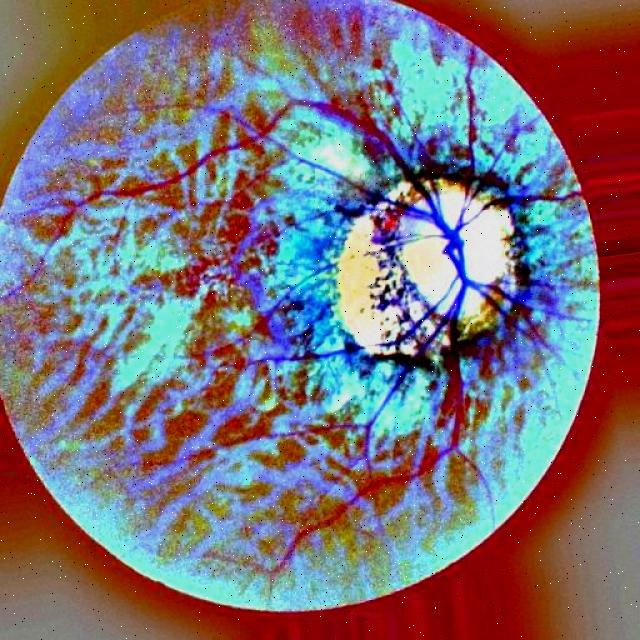Nerves: (90, 76, 582, 512)
Optic Disk: (338, 181, 518, 356)
